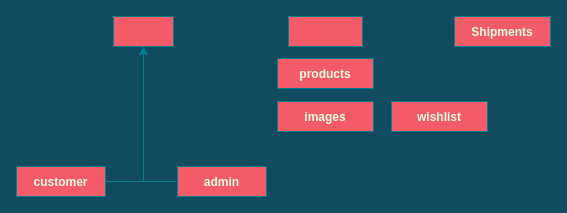
Image size: 567x213. Some labels were removed from this diagram. Each missing label, with the box of its shape:
Orders: (288, 16, 362, 46)
user: (112, 16, 174, 46)
